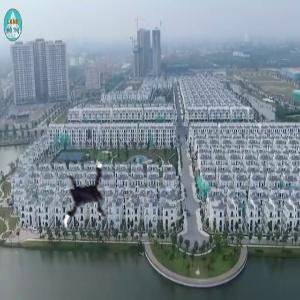drone: (47, 154, 133, 240)
